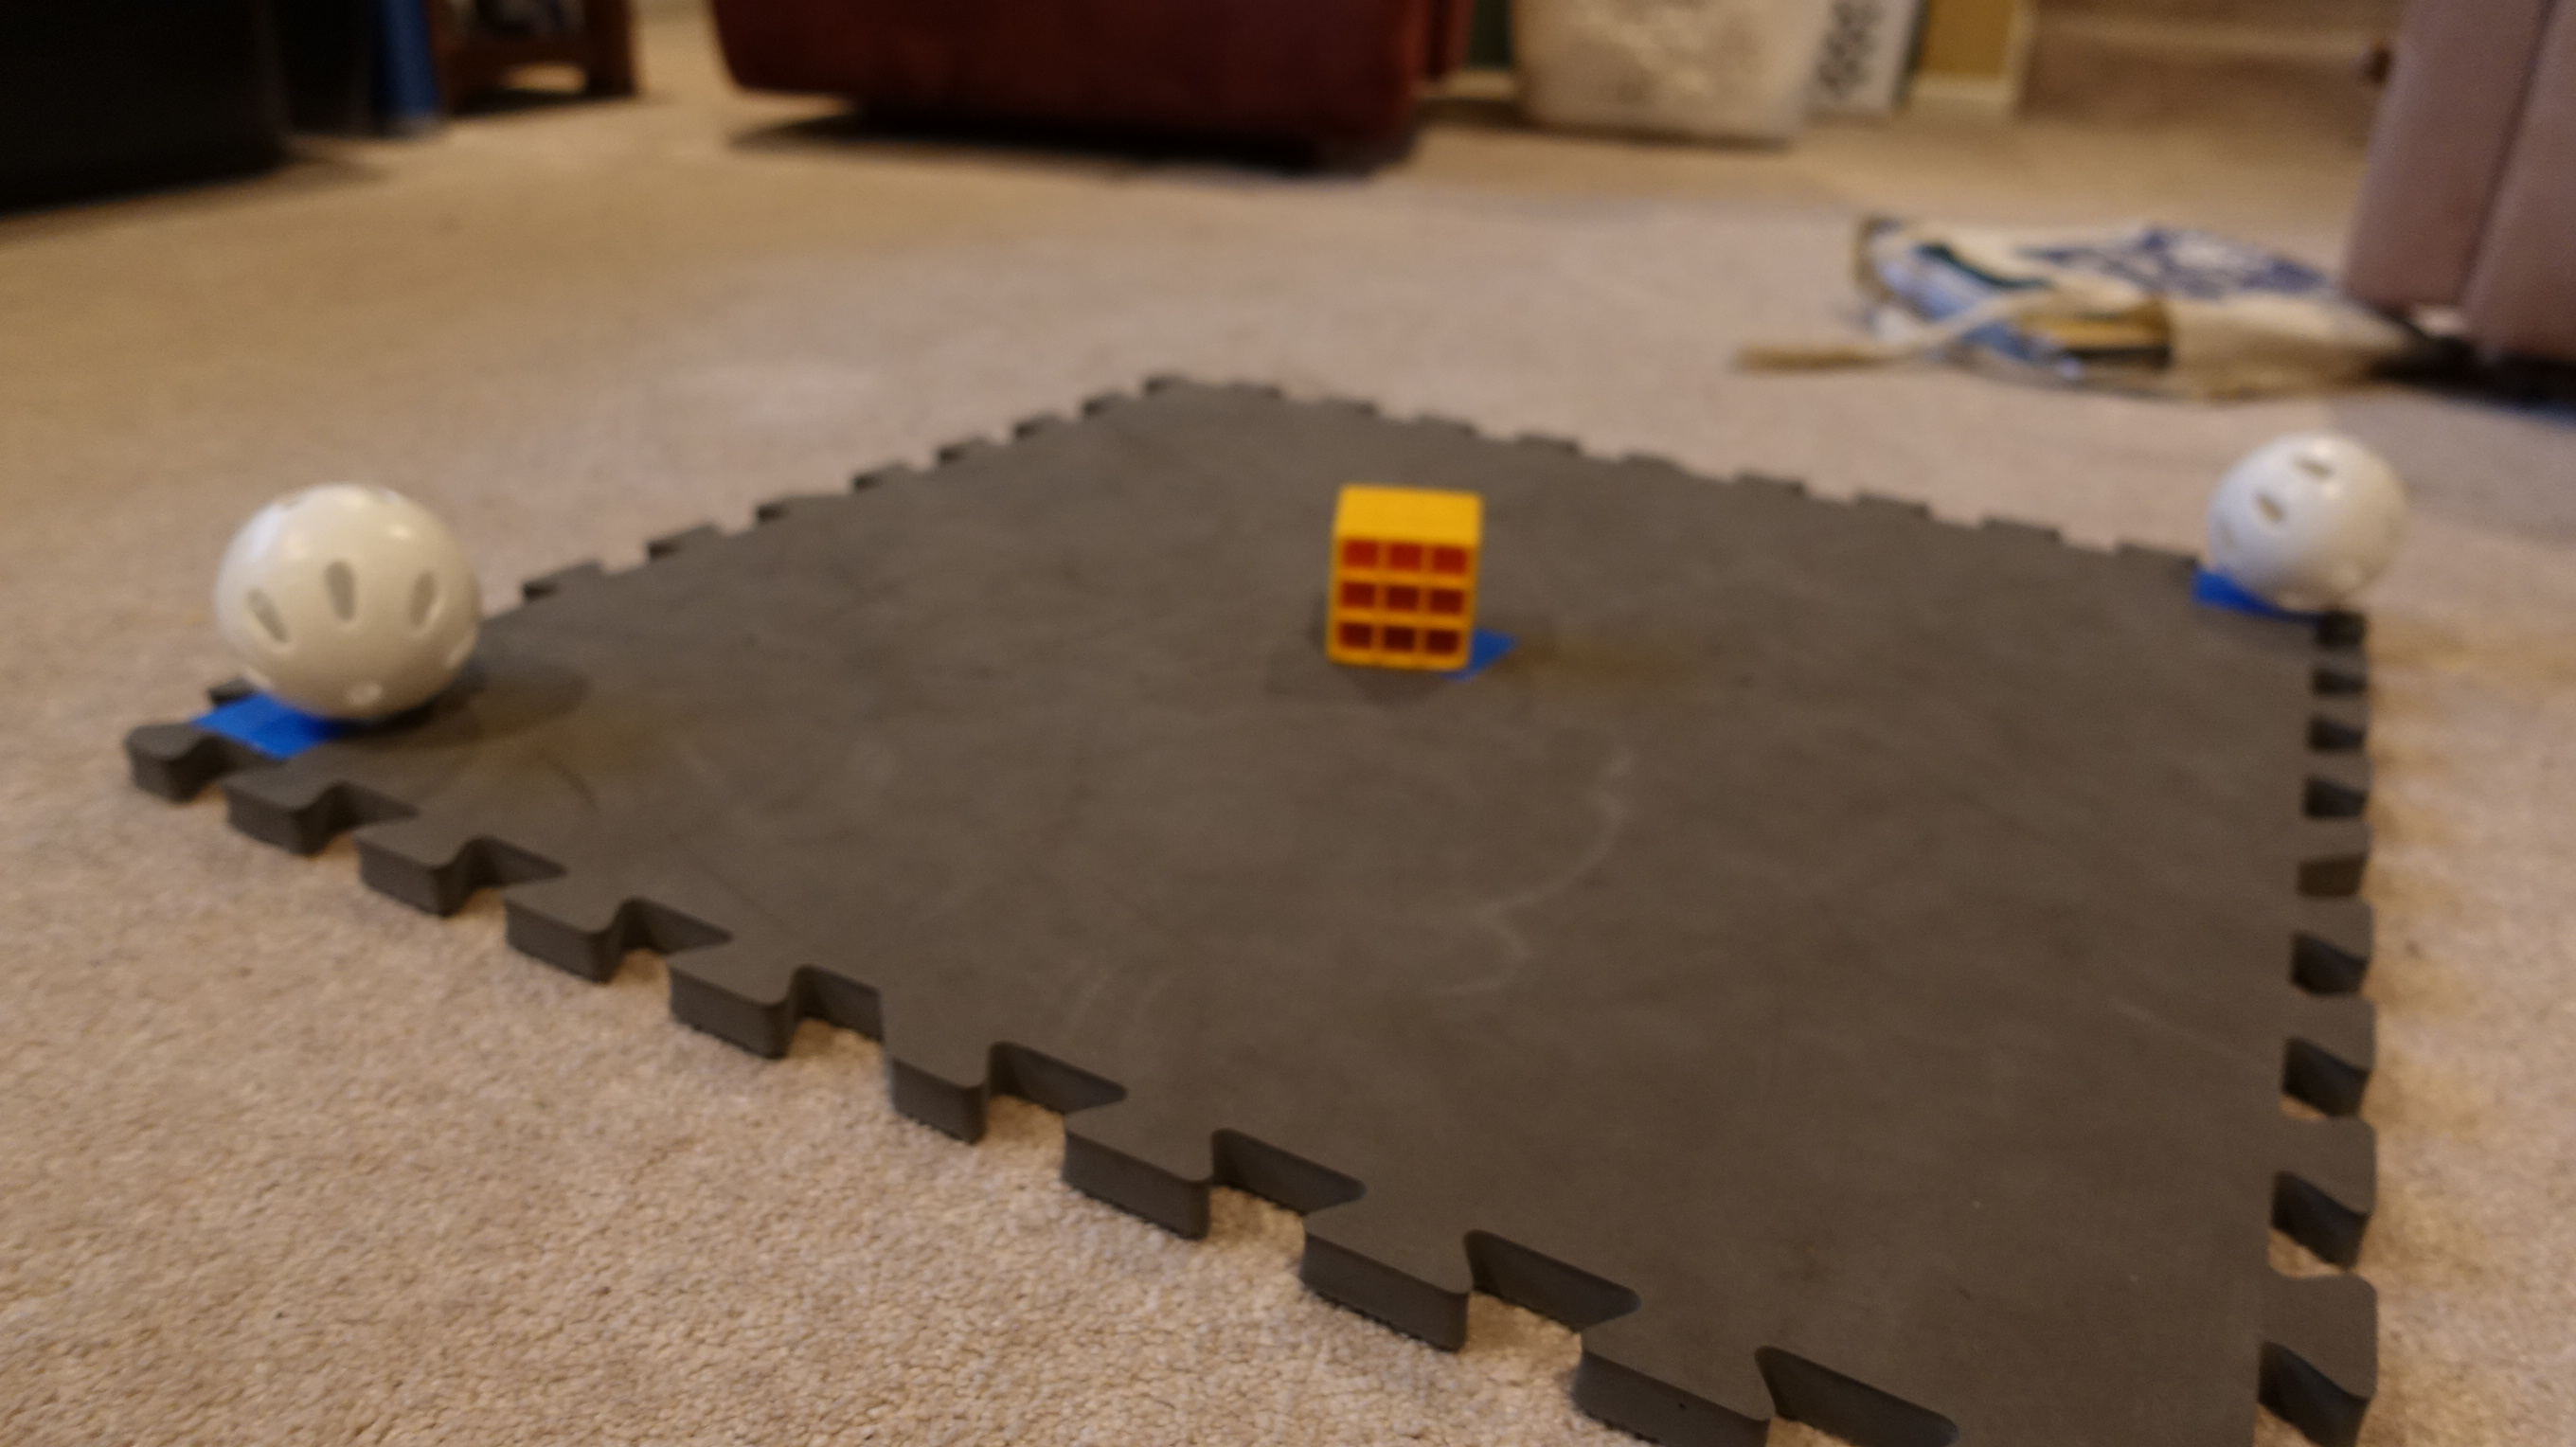gold: (1316, 472, 1488, 679)
silver: (207, 476, 488, 725), (2194, 425, 2419, 621)
